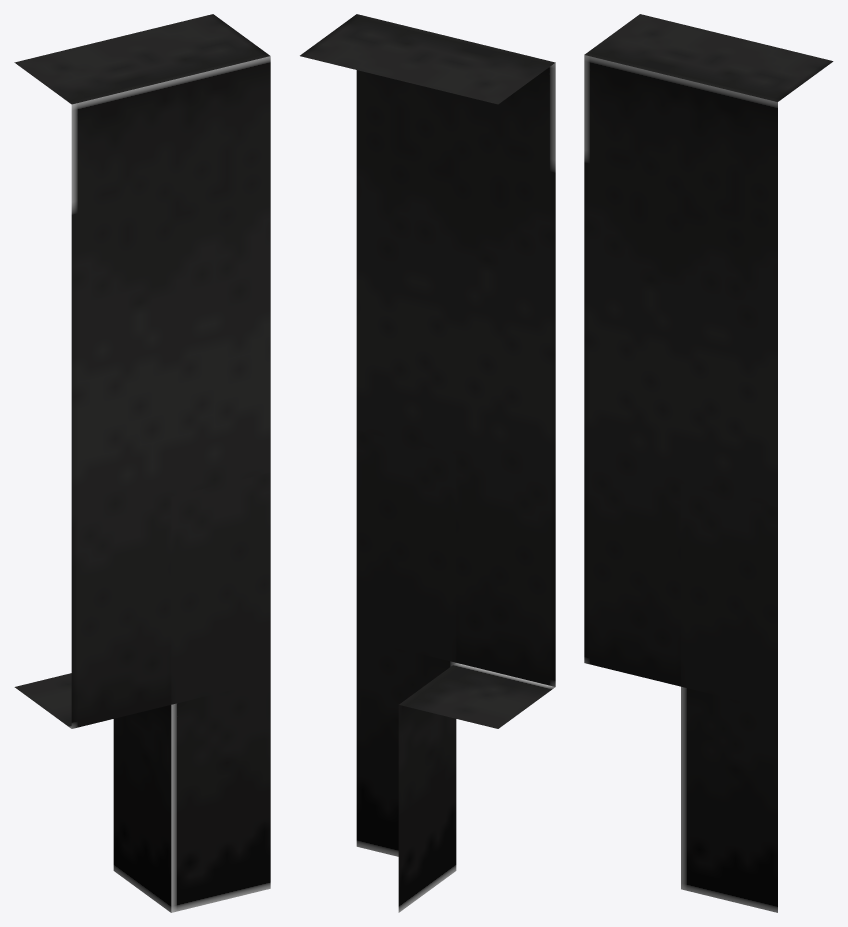
The model's file is pit-corner-l.obj.
The picture shows the model from 3 angles, left to right: view 1: azimuth 30°, elevation 25°; view 2: azimuth 150°, elevation 25°; view 3: azimuth 330°, elevation 25°; orthographic projection. The views are drawn at different scales.
Parts seen in each view (by area): view 1: Plane.008; view 2: Plane.008; view 3: Plane.008.
Boxes of the visible parts, bbox=[...] form: Plane.008: bbox=[14, 14, 270, 912]; Plane.008: bbox=[300, 14, 555, 912]; Plane.008: bbox=[584, 14, 833, 912].
Size of the model in its own units: 2 by 8 by 1.
Materials: 1 (1 with a texture image).
